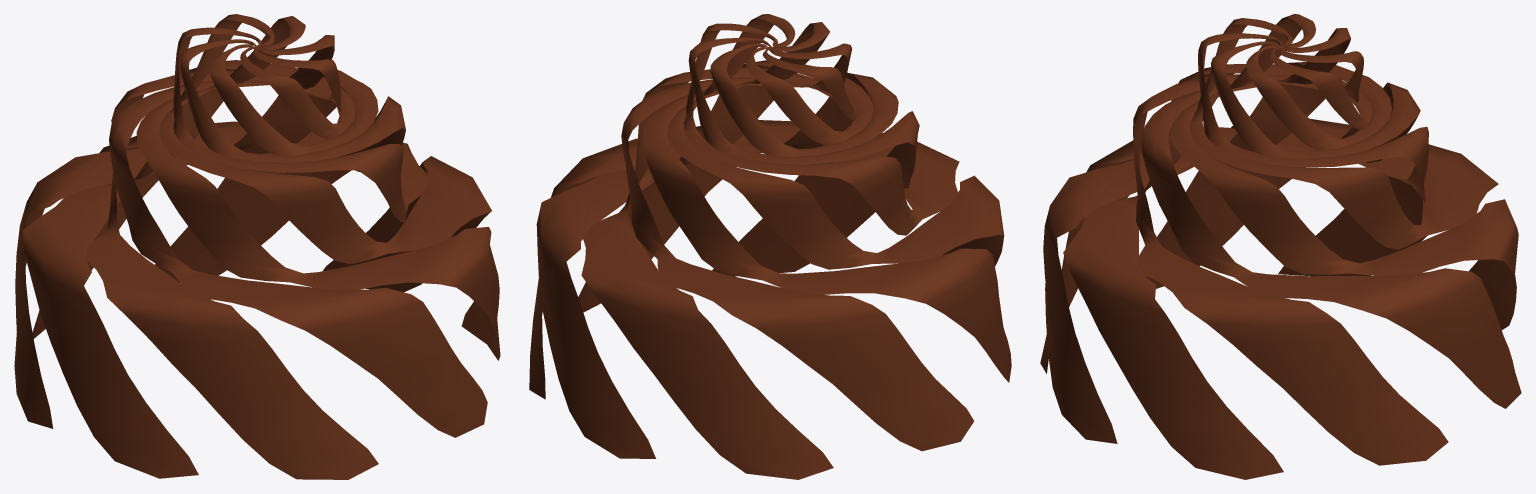
File: cake_sauce_2.glb
The picture shows the model from 3 angles, left to right: view 1: azimuth 30°, elevation 25°; view 2: azimuth 150°, elevation 25°; view 3: azimuth 270°, elevation 25°; orthographic projection.
Visible parts, largest first — view 1: sauce_2; view 2: sauce_2; view 3: sauce_2.
Boxes of the visible parts, x1,y1,x2,y2 form: sauce_2: [14, 14, 500, 479]; sauce_2: [529, 14, 1011, 479]; sauce_2: [1040, 14, 1521, 479].
Size of the model in its own units: 10.63 by 8.13 by 10.63.
1 material, 1 textured.
